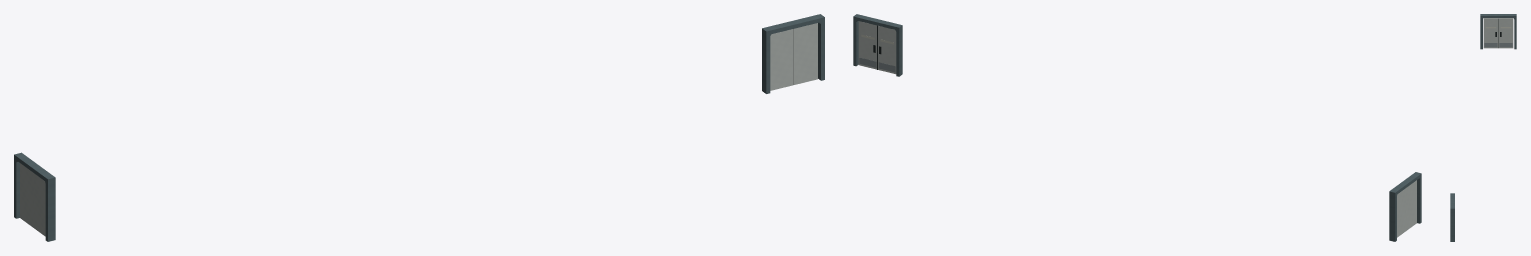
File: AST-STF-G3-055.glb
The picture shows the model from 3 angles, left to right: view 1: azimuth 30°, elevation 25°; view 2: azimuth 150°, elevation 25°; view 3: azimuth 270°, elevation 25°; orthographic projection. The views are drawn at different scales.
Parts seen in each view (by area): view 1: port2_D03_arrival__LEAF_LEFT, port2_D03_arrival__LEAF_RIGHT, port2_D03_spine__LEAF_RIGHT, port2_D03_spine__LEAF_LEFT, port2_D03_spine__STF_JambLeft, port2_D03_arrival__STF_Header, port2_D03_arrival__STF_JambRight, port2_D03_spine__STF_Header; view 2: port2_D03_arrival__LEAF_LEFT, port2_D03_arrival__LEAF_RIGHT, port2_D03_spine__LEAF_LEFT, port2_D03_spine__LEAF_RIGHT, port2_D03_spine__STF_JambRight, port2_D03_arrival__STF_Header, port2_D03_arrival__STF_JambRight; view 3: port2_D03_spine__LEAF_LEFT, port2_D03_spine__LEAF_RIGHT, port2_D03_spine__STF_Header, port2_D03_arrival__STF_JambLeft, port2_D03_spine__STF_JambRight, port2_D03_arrival__STF_Header, port2_D03_spine__STF_JambLeft, port2_D03_spine__KICK_LEFT, port2_D03_spine__KICK_RIGHT.
Boxes of the visible parts, box(x1,y1,x2,y2) form: port2_D03_arrival__LEAF_LEFT: box(793, 23, 817, 84); port2_D03_arrival__LEAF_RIGHT: box(770, 29, 793, 90); port2_D03_spine__LEAF_RIGHT: box(20, 163, 33, 227); port2_D03_spine__LEAF_LEFT: box(34, 173, 45, 236); port2_D03_spine__STF_JambLeft: box(45, 180, 55, 241); port2_D03_arrival__STF_Header: box(762, 14, 824, 36); port2_D03_arrival__STF_JambRight: box(762, 34, 770, 93); port2_D03_spine__STF_Header: box(14, 152, 55, 184); port2_D03_arrival__LEAF_LEFT: box(858, 21, 876, 69); port2_D03_arrival__LEAF_RIGHT: box(878, 25, 896, 74); port2_D03_spine__LEAF_LEFT: box(1406, 180, 1416, 230); port2_D03_spine__LEAF_RIGHT: box(1397, 188, 1405, 237); port2_D03_spine__STF_JambRight: box(1389, 195, 1396, 241); port2_D03_arrival__STF_Header: box(853, 14, 902, 31); port2_D03_arrival__STF_JambRight: box(896, 29, 902, 76); port2_D03_spine__LEAF_LEFT: box(1483, 18, 1498, 48); port2_D03_spine__LEAF_RIGHT: box(1498, 18, 1513, 48); port2_D03_spine__STF_Header: box(1480, 14, 1516, 19); port2_D03_arrival__STF_JambLeft: box(1450, 211, 1454, 241); port2_D03_spine__STF_JambRight: box(1514, 17, 1516, 49); port2_D03_arrival__STF_Header: box(1450, 193, 1454, 211); port2_D03_spine__STF_JambLeft: box(1480, 17, 1482, 49); port2_D03_spine__KICK_LEFT: box(1484, 43, 1497, 47); port2_D03_spine__KICK_RIGHT: box(1499, 43, 1512, 47).
Size of the model in its own units: 35.26 by 2.82 by 5.06.
Materials: 5 (5 with a texture image).
